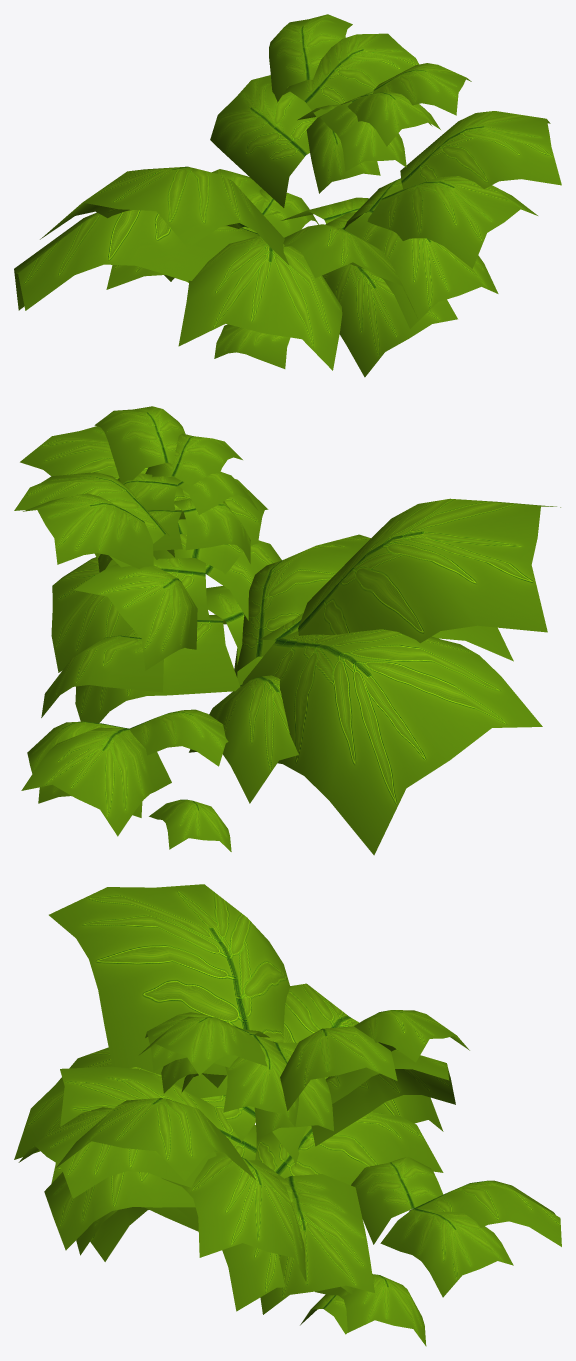
Rendered from BambooSet_part_21.fbx.
The picture shows the model from 3 angles, top to bottom: view 1: azimuth 30°, elevation 25°; view 2: azimuth 150°, elevation 25°; view 3: azimuth 270°, elevation 25°; orthographic projection. The views are drawn at different scales.
Visible parts, largest first — view 1: Object_43.001; view 2: Object_43.001; view 3: Object_43.001.
Boxes of the visible parts, bbox=[...] form: Object_43.001: bbox=[14, 14, 561, 377]; Object_43.001: bbox=[14, 406, 560, 855]; Object_43.001: bbox=[14, 884, 561, 1346].
Size of the model in its own units: 1538 by 910 by 1253.
